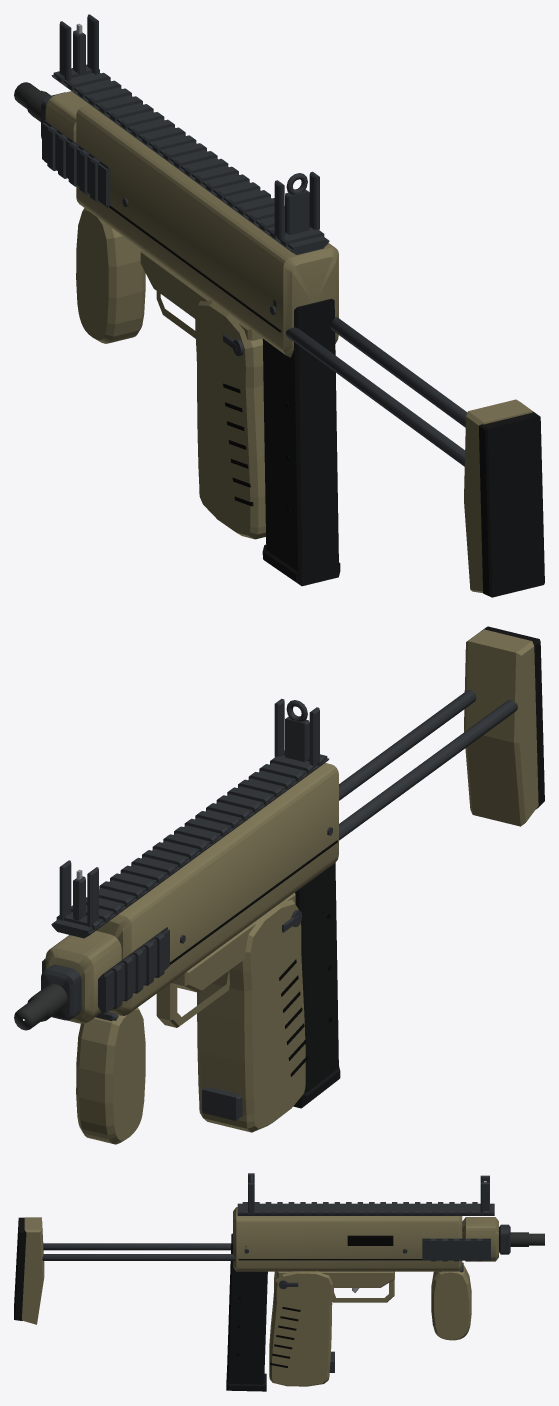
The model's file is weapon-56-BWOgOjQi.glb.
3 renders of one model, top to bottom at view 1: azimuth 30°, elevation 25°; view 2: azimuth 150°, elevation 25°; view 3: azimuth 270°, elevation 25°, orthographic. The views are drawn at different scales.
Parts seen in each view (by area): view 1: salient_weapon_body, salient_weapon_magazine, salient_weapon_iron; view 2: salient_weapon_body, salient_weapon_magazine, salient_weapon_iron; view 3: salient_weapon_body, salient_weapon_magazine, salient_weapon_iron.
Boxes of the visible parts, <box> form: salient_weapon_body: <box>14,64,544,597</box>; salient_weapon_magazine: <box>262,298,340,586</box>; salient_weapon_iron: <box>59,14,319,239</box>; salient_weapon_body: <box>14,626,544,1144</box>; salient_weapon_magazine: <box>293,863,340,1108</box>; salient_weapon_iron: <box>59,698,319,927</box>; salient_weapon_body: <box>14,1202,544,1386</box>; salient_weapon_magazine: <box>226,1233,267,1391</box>; salient_weapon_iron: <box>248,1173,489,1212</box>.
Bounding box in the file's own units: 0.0376 × 0.2031 × 0.4628.
